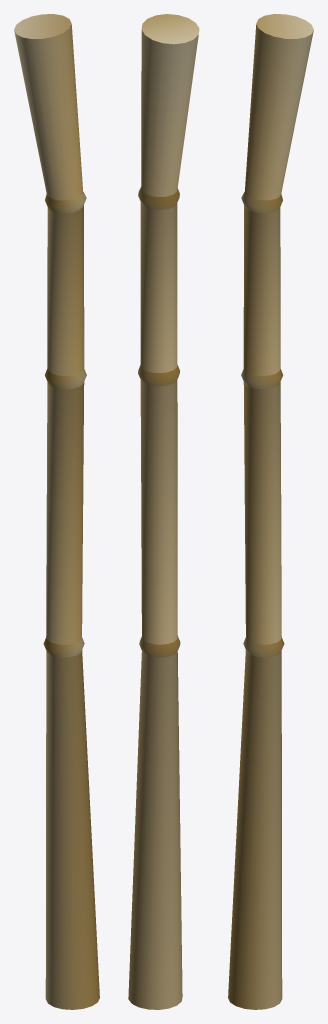
File: Bamboo_Sticks.FBX
The picture shows the model from 3 angles, left to right: view 1: azimuth 90°, elevation 25°; view 2: azimuth 210°, elevation 25°; view 3: azimuth 270°, elevation 25°; orthographic projection.
Visible parts, largest first — view 1: Bamboo Sticks; view 2: Bamboo Sticks; view 3: Bamboo Sticks.
Part boxes in pixels (bbox=[...]): Bamboo Sticks: bbox=[14, 14, 99, 1009]; Bamboo Sticks: bbox=[128, 14, 199, 1009]; Bamboo Sticks: bbox=[228, 14, 313, 1009].
Size of the model in its own units: 1.8 by 33.28 by 2.66.
1 material, 1 textured.
